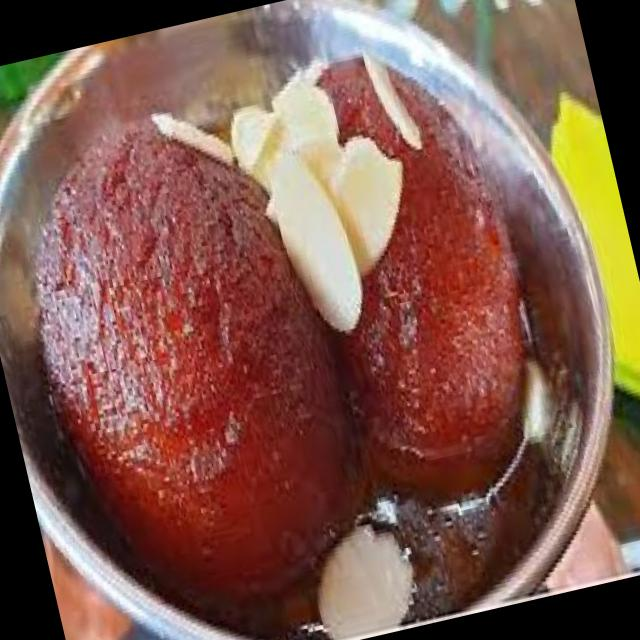gulab_jamun: (0, 87, 389, 624), (279, 29, 568, 519)
